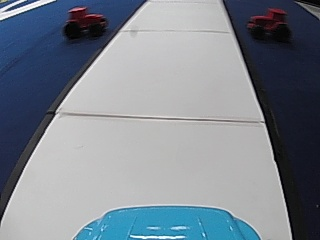tractor: (62, 5, 108, 40), (246, 5, 289, 42)
